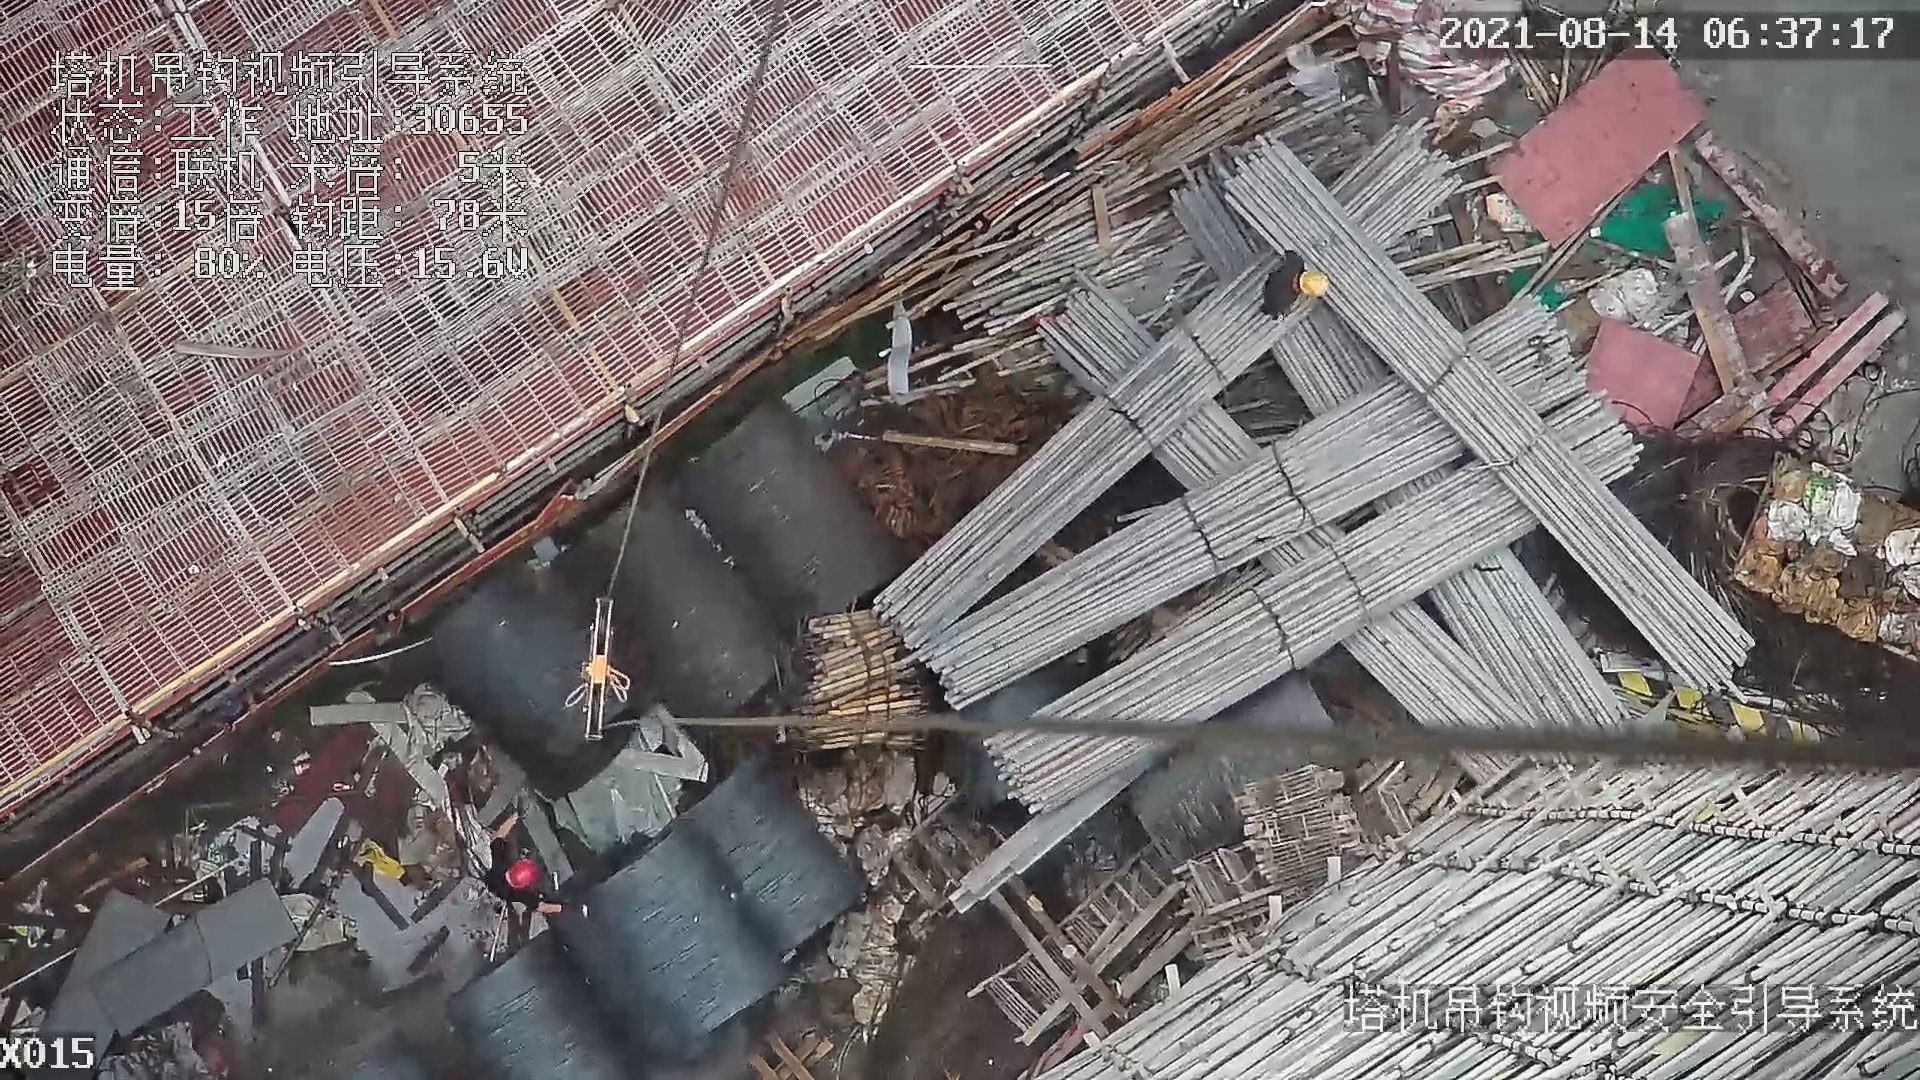helmet: (1298, 265, 1327, 302), (508, 858, 539, 889)
hook: (568, 597, 629, 744)
person: (482, 806, 592, 927), (1258, 247, 1326, 328)
scaffold: (944, 117, 1751, 750), (781, 596, 926, 745)
